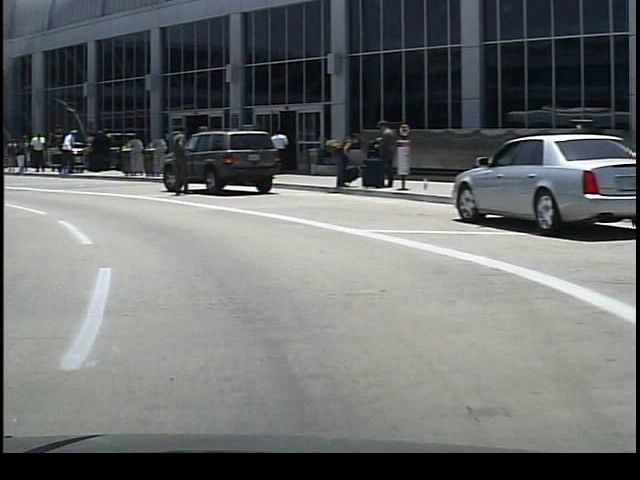person: (356, 117, 397, 192), (160, 116, 189, 202), (325, 126, 356, 191), (262, 120, 289, 181), (51, 125, 79, 177), (26, 129, 46, 178)
